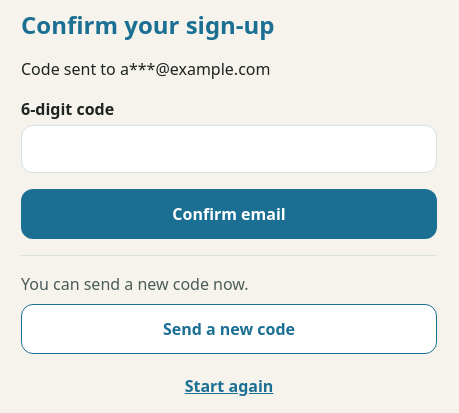
Scenario: the email step › without Termii (D20): the email code ends the road for an owner, who is told to log in, and the phone is not asked
This screenshot has width=459, height=413.
Type "482913" into the field labelled "6-digit code" at coordinates (229, 149), box top-left (21, 125), bottom-right (437, 173)
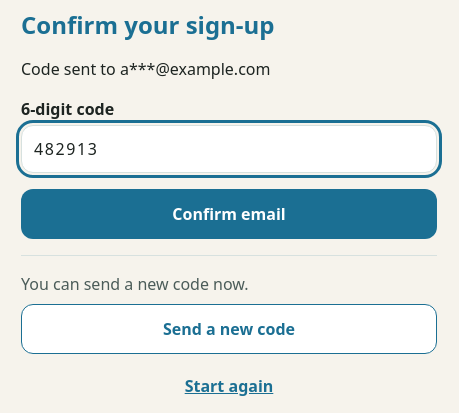
Click the button "Confirm email" at coordinates (229, 214), box top-left (21, 189), bottom-right (437, 239)
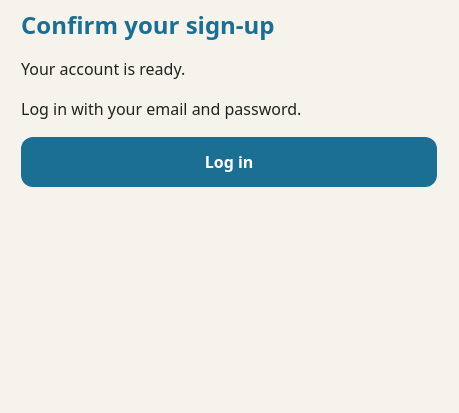
Now the text "Your account is ready." is shown, box top-left (21, 58), bottom-right (185, 80)
Now the label labelled "6-digit code" is gone
